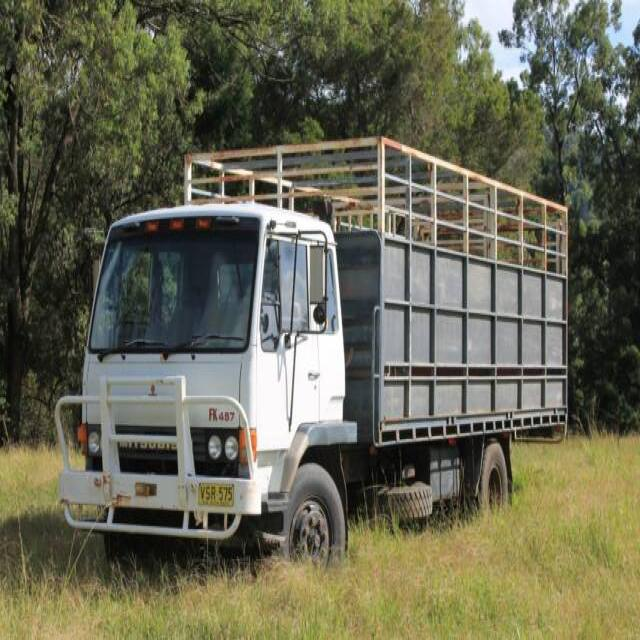truck: (55, 135, 568, 571)
